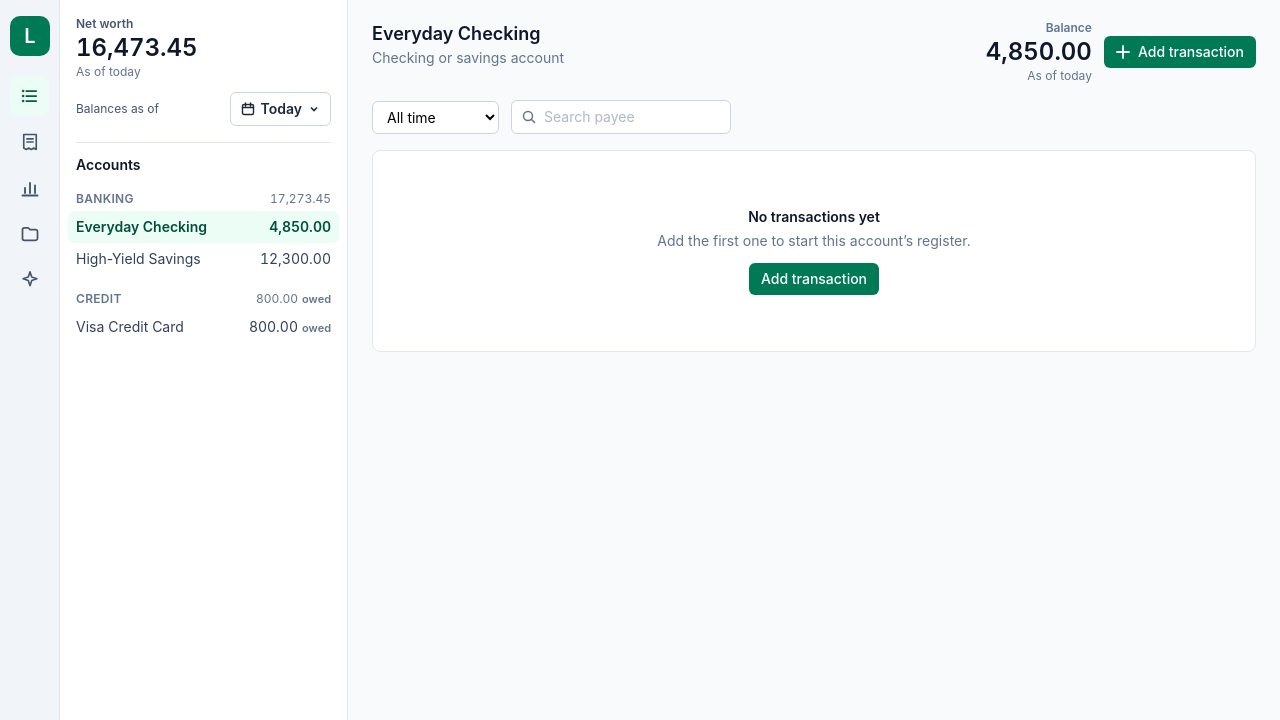
choosing a date › disables dates after today and navigation past this month
Step 1. Click the button with aria-label "Balances as of" → (280, 109), box [230,92,331,126]
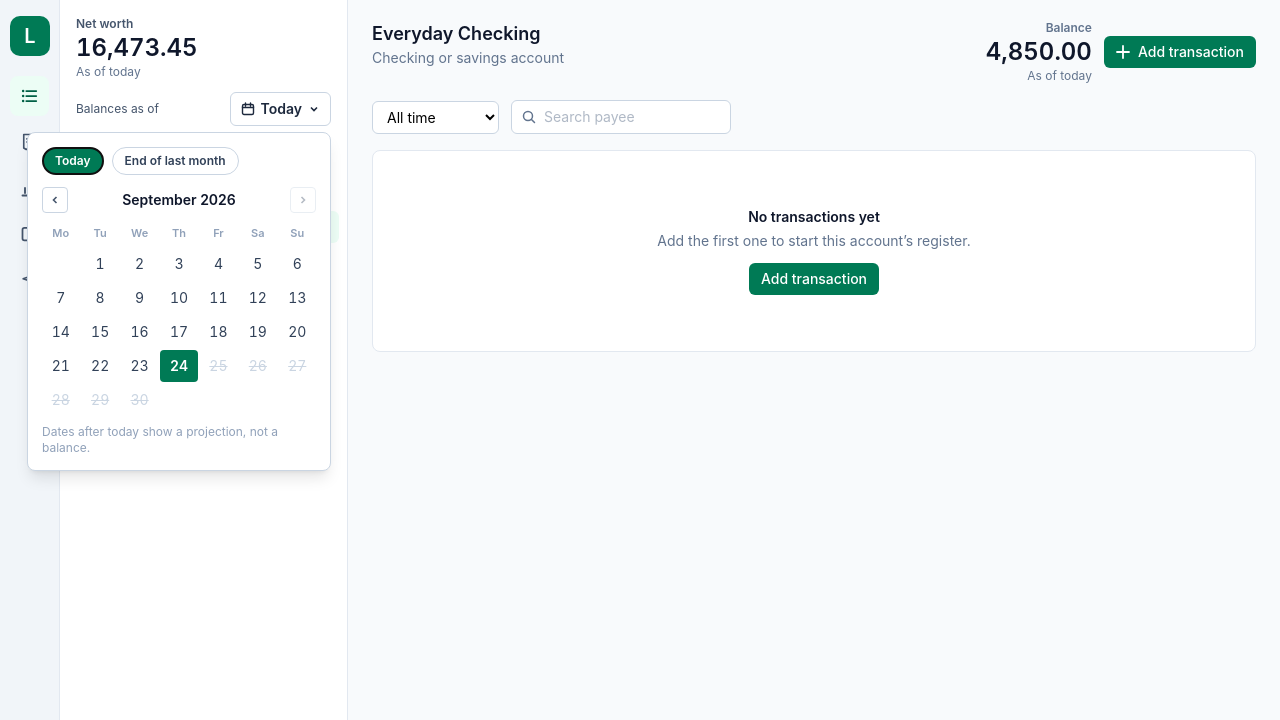
Expected: the button named "Next month" is disabled, [290,187,316,213]
Expected: the button "24" is enabled, [160,350,198,382]
Expected: the button "25" is disabled, [200,350,237,382]
